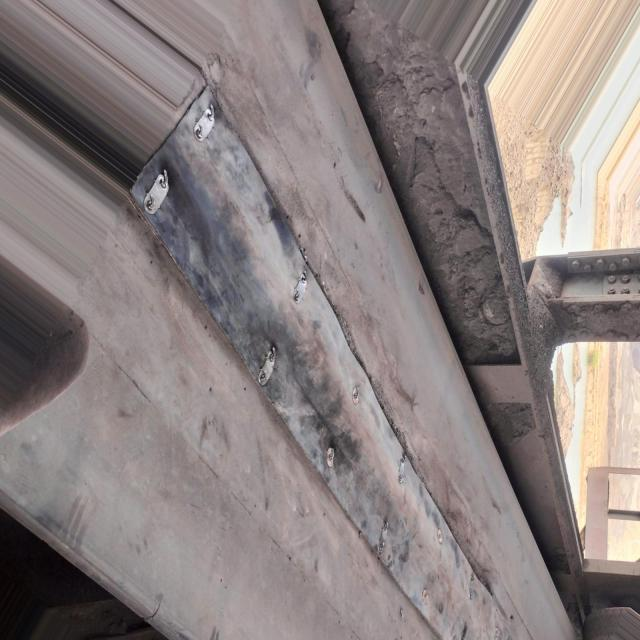patch work: (128, 80, 522, 640)
